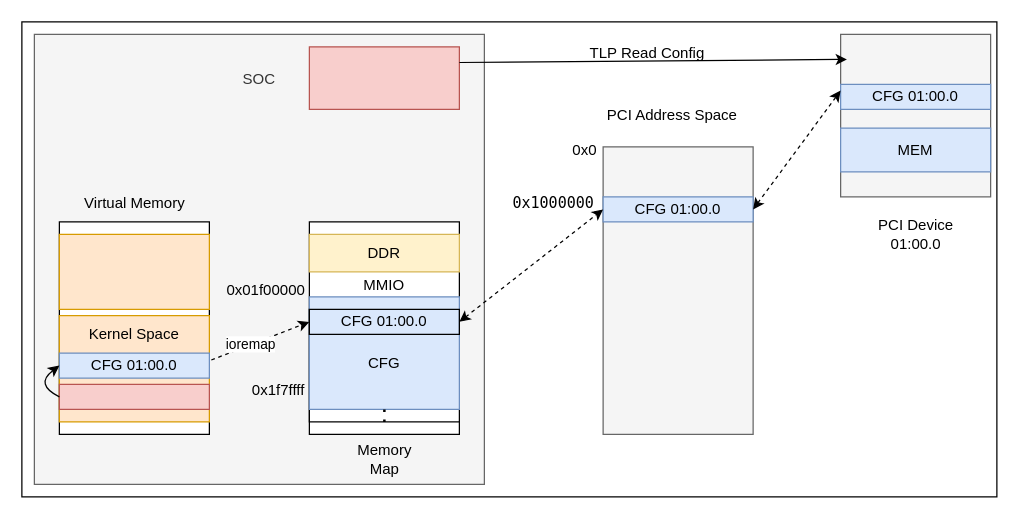
This 1019x519 diagram has some shape labels left out. Each missing label, with the centre of its shape:
"Kernel Code" goes at point (133, 396).
"Root Complex" goes at point (383, 77).
"User Space" goes at point (133, 271).
